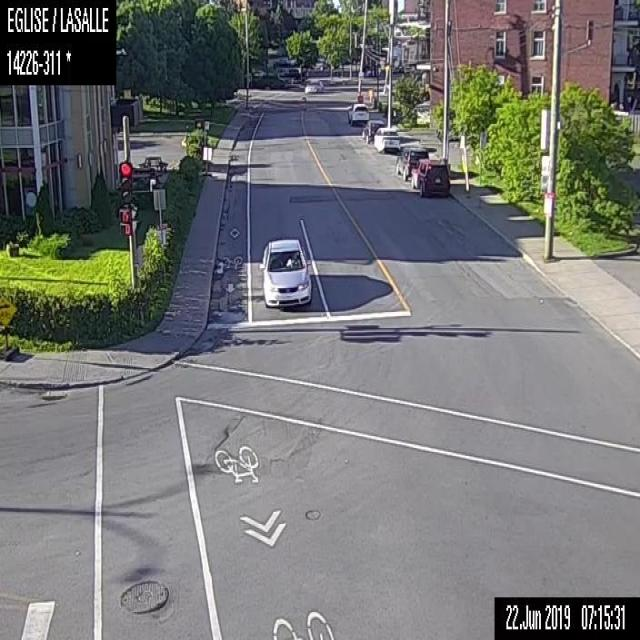vehicle: (258, 236, 312, 308), (410, 155, 450, 196), (393, 142, 424, 180), (371, 125, 401, 153), (360, 116, 383, 146), (346, 102, 370, 127), (303, 78, 324, 97)
